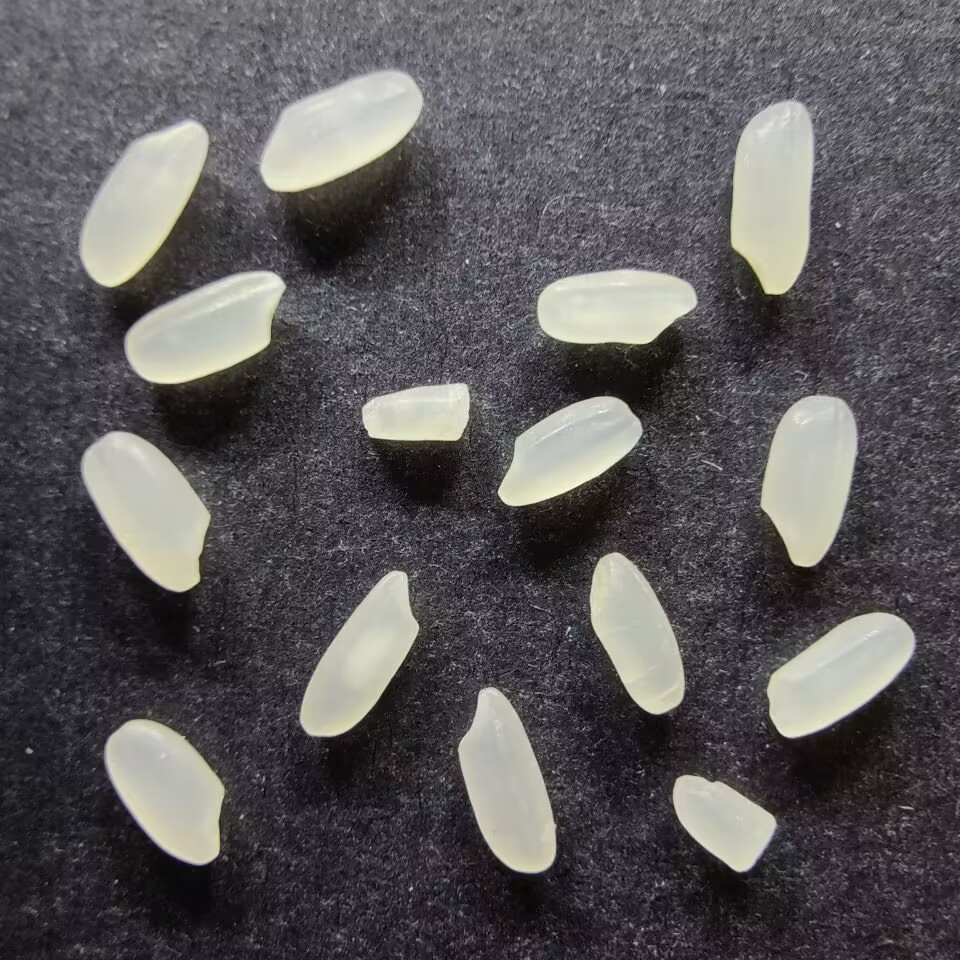broken: (671, 772, 778, 872), (357, 379, 475, 444)
rice: (77, 119, 210, 289), (79, 429, 211, 595), (298, 565, 421, 740), (258, 69, 422, 194), (454, 686, 559, 875), (121, 268, 288, 386), (765, 611, 916, 739), (102, 717, 226, 869), (759, 393, 859, 569), (727, 99, 816, 296), (494, 394, 644, 507), (587, 551, 687, 716), (535, 267, 698, 346)
